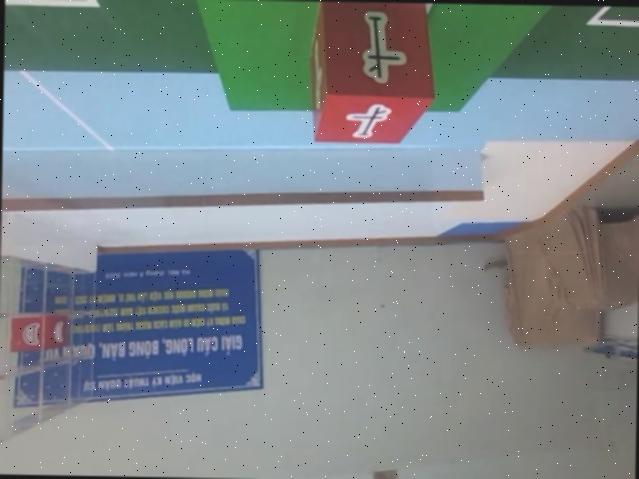R2 Real: (309, 0, 441, 150)
